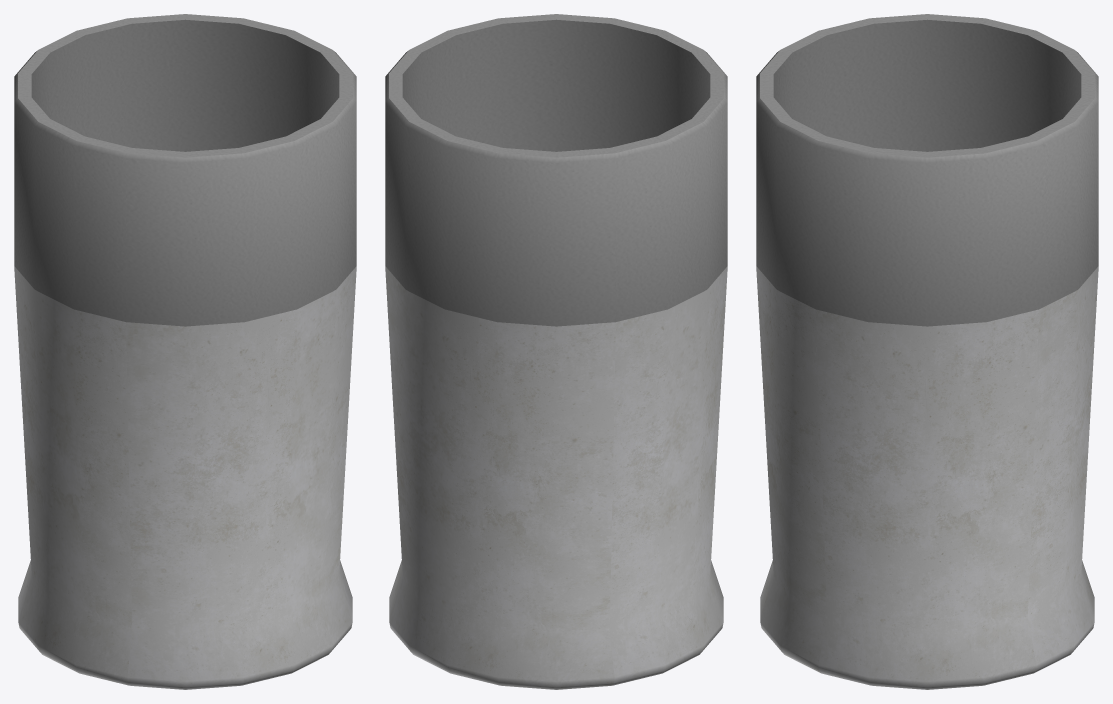
The model's file is SM_研磨机下.FBX.
3 views of the same model, side by side, from view 1: azimuth 30°, elevation 25°; view 2: azimuth 150°, elevation 25°; view 3: azimuth 270°, elevation 25° (orthographic).
Parts seen in each view (by area): view 1: SM_研磨机下; view 2: SM_研磨机下; view 3: SM_研磨机下.
Part boxes in pixels (<box>): SM_研磨机下: <box>14,14,356,689</box>; SM_研磨机下: <box>385,14,727,689</box>; SM_研磨机下: <box>756,14,1098,689</box>.
Size of the model in its own units: 60 by 102 by 59.09.
